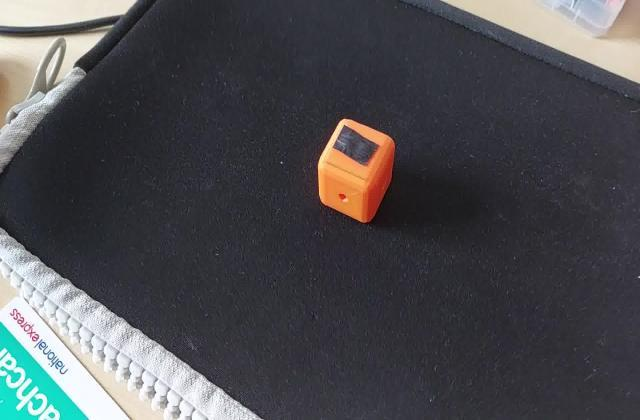black: (332, 132, 384, 168)
sticker: (314, 113, 398, 225)
